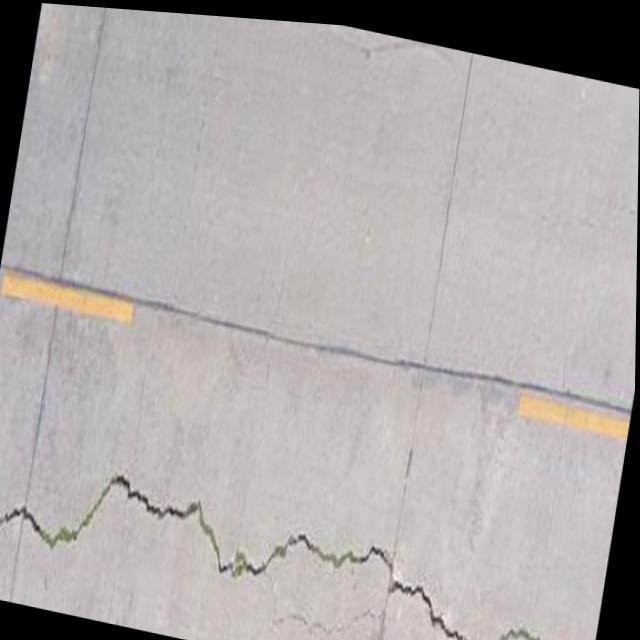Crack: (0, 427, 610, 640)
